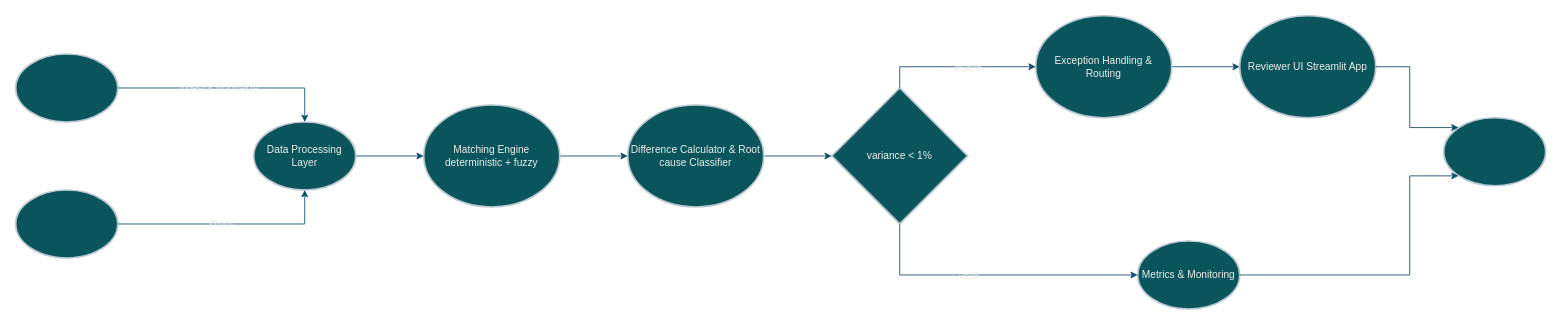
Image size: 1561x324. Some labels were removed from this diagram. The centre of each missing label's shape, as x and y in pixels:
"Audit / Reporting DB" belongs at (1494,151).
"Client API (JSON Jobs)" belongs at (66,87).
"Internal Ledger (CSV / DB)" belongs at (66,223).
